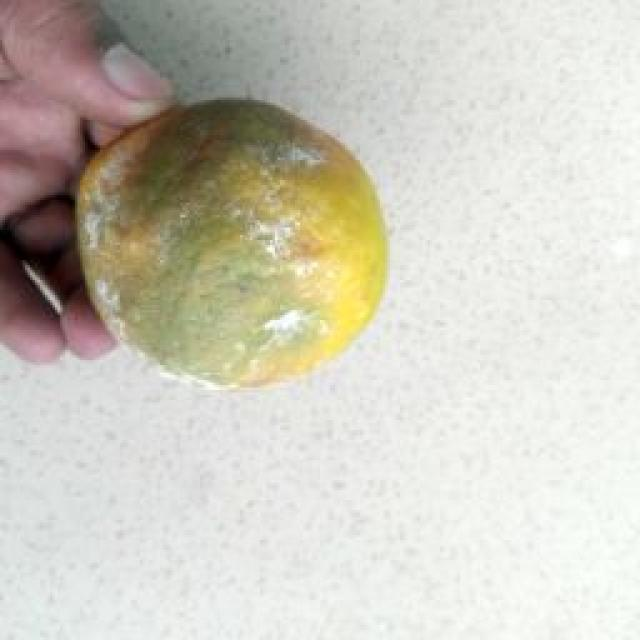Bad_Orange: (78, 100, 386, 386)
